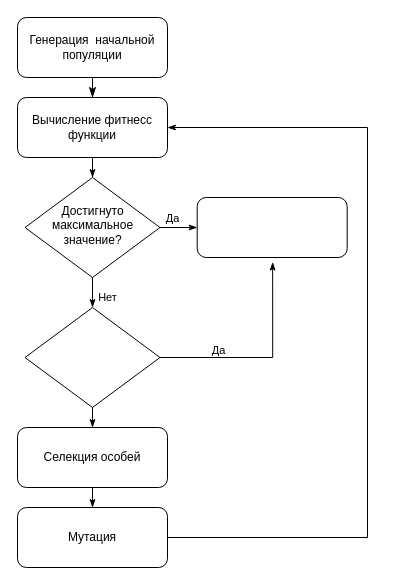
Some shapes in this 393 by 585 pixel diagram are drawn without their labels. Each missing label, with the centre of its shape:
Выбор особи с максимальным значением фитнесс функции: the point at 271,227
Превышено время работы?: the point at 92,357
